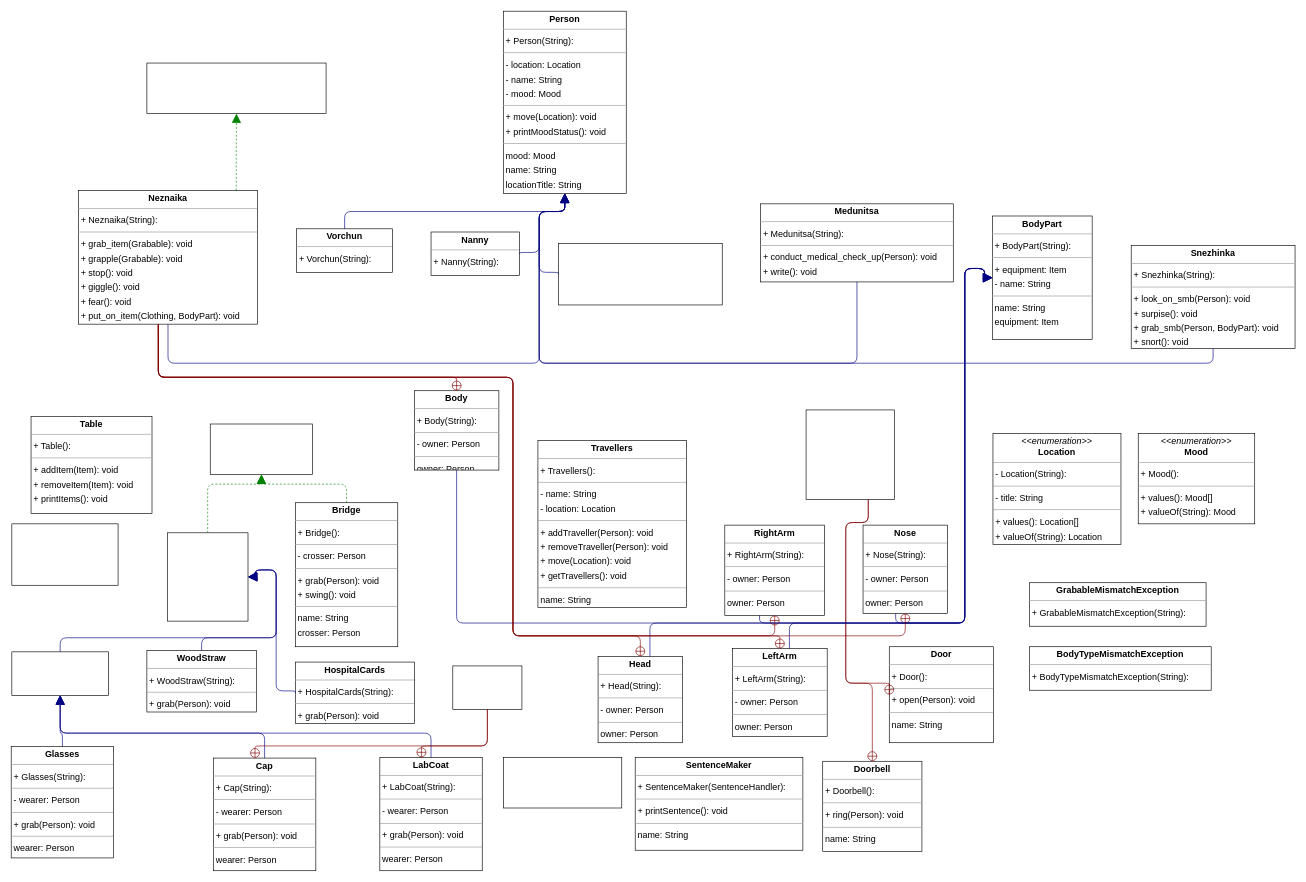
Some shapes in this 1306 by 882 pixel diagram are drawn without their labels. Each missing label, with the box of its shape:
<<interface>> Grabable + grab(Person): void: (210, 423, 313, 475)
<<interface>> PutOnItem + put_on_item(Clothing, BodyPart): void: (146, 62, 326, 114)
<<interface>> SentenceHandler + sentenceOut(): void: (503, 757, 622, 808)
Clothing + Clothing(String):: (11, 651, 108, 695)
Hanger + Hanger():: (452, 665, 522, 709)
House + House(String): - name: String name: String: (805, 409, 894, 500)
Item + Item(String): - name: String name: String: (167, 532, 248, 621)
Main + Main(): + main(String[]): void: (11, 523, 118, 585)
Sineglazka + Sineglazka(String): + grab_smb(Person, BodyPart): void: (558, 243, 722, 305)
